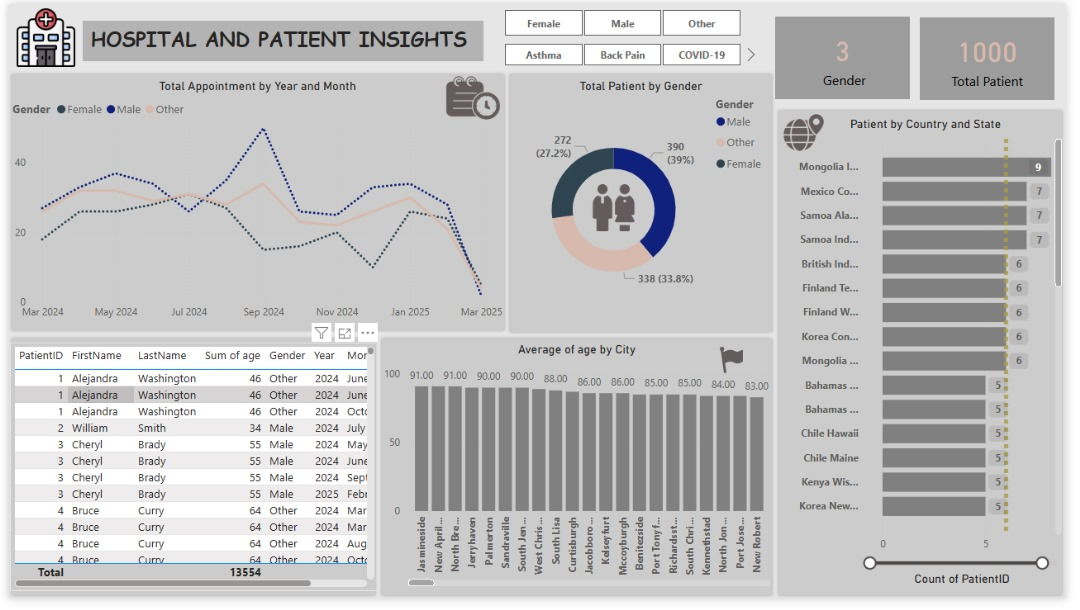

This screenshot's page, from the dashboard's own definition file:
{"tool":"powerbi","page":{"name":"Dashboard ","canvas":[1280,720],"ordinal":0},"visuals":[{"type":"shape","box":[0,81.1,603.7,317.7],"z":0},{"type":"shape","box":[0,400.6,447.9,319.4],"z":1000},{"type":"shape","box":[927.6,124.9,351.3,595.5],"z":2000},{"type":"shape","box":[447.9,400.6,480,319.4],"z":3000},{"type":"shape","box":[602.8,81.3,325,319.4],"z":4000},{"type":"lineChart","title":"Total Appointment by Year and Month ","fields":{"Series":["patients.Gender"],"Y":["appointments.AppointmentID"],"Category":["appointments.AppointmentDate.Variation.Date Hierarchy.Year","appointments.AppointmentDate.Variation.Date Hierarchy.Month"]},"box":[0,90.7,602.8,300.5],"z":5000},{"type":"tableEx","fields":{"Values":["patients.PatientID","patients.FirstName","patients.LastName","patients.age","patients.Gender","appointments.AppointmentDate.Variation.Date Hierarchy.Year","appointments.AppointmentDate.Variation.Date Hierarchy.Month","appointments.AppointmentDate.Variation.Date Hierarchy.Day"]},"box":[1.9,410.1,446,300.5],"z":6000},{"type":"clusteredBarChart","title":"Patient by Country and State","fields":{"Category":["patients.Country Hierarchy.Country","patients.Country Hierarchy.State"],"Y":["appointments.PatientID"]},"box":[940,137.2,340.3,572.2],"z":7000},{"type":"donutChart","title":"Total Patient by Gender","fields":{"Category":["patients.Gender"],"Series":["patients.Gender"],"Y":["appointments.PatientID"]},"box":[603.7,90.8,323.2,299.8],"z":8000},{"type":"card","fields":{"Values":["appointments.PatientID"]},"box":[1102.9,15.7,162.9,100],"z":9000},{"type":"card","fields":{"Values":["patients.Gender"]},"box":[927.6,15.1,163.3,100.2],"z":10000},{"type":"slicer","fields":{"Values":["patients.Gender"]},"box":[575,0,334.8,45.3],"z":11000},{"type":"slicer","fields":{"Values":["appointments.Diagnosis"]},"box":[575,41.2,334.8,39.8],"z":12000},{"type":"textbox","box":[90.5,20.2,484.5,48.8],"z":13000},{"type":"image","box":[687.5,212.7,89.2,67.2],"z":14000},{"type":"image","box":[521.4,65.9,82.3,94.7],"z":15000},{"type":"image","box":[927.6,122.1,68.6,67.2],"z":16000},{"type":"image","box":[839.3,409.5,70.3,42.2],"z":17000},{"type":"image","box":[0,0,90.5,81],"z":18000},{"type":"columnChart","fields":{"Y":["patients.age"],"Category":["patients.City"]},"box":[448.6,409.5,478.3,300.1],"z":19000}]}

Visuals, with their boxes in screenshot pixels (x1, y1, x2, y2), scaled from the page's 1280x720 canvas onto the 1080x610 screenshot:
shape: select_region(0, 69, 509, 338)
shape: select_region(0, 339, 378, 609)
shape: select_region(783, 106, 1079, 609)
shape: select_region(378, 339, 783, 609)
shape: select_region(509, 69, 783, 339)
"Total Appointment by Year and Month " lineChart: select_region(0, 77, 509, 331)
tableEx - patients.PatientID x patients.FirstName: select_region(2, 347, 378, 602)
"Patient by Country and State" clusteredBarChart: select_region(793, 116, 1079, 601)
"Total Patient by Gender" donutChart: select_region(509, 77, 782, 331)
card - appointments.PatientID: select_region(931, 13, 1068, 98)
card - patients.Gender: select_region(783, 13, 920, 98)
slicer - patients.Gender: select_region(485, 0, 768, 38)
slicer - appointments.Diagnosis: select_region(485, 35, 768, 69)
textbox: select_region(76, 17, 485, 58)
image: select_region(580, 180, 655, 237)
image: select_region(440, 56, 509, 136)
image: select_region(783, 103, 841, 160)
image: select_region(708, 347, 767, 383)
image: select_region(0, 0, 76, 69)
columnChart - patients.age x patients.City: select_region(379, 347, 782, 601)
